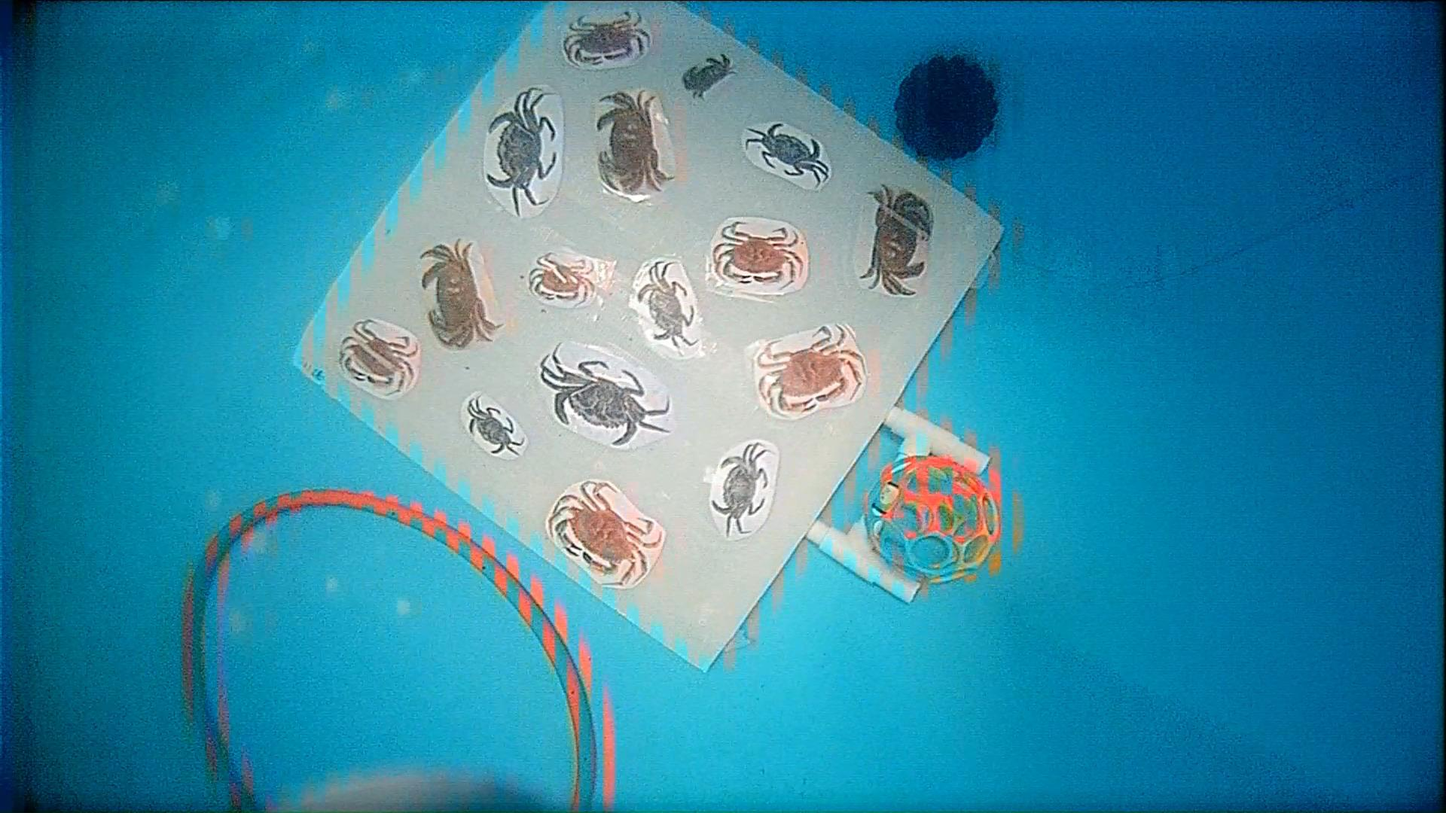GreenCrab: (540, 351, 670, 446), (486, 87, 557, 216), (709, 441, 767, 534), (745, 123, 828, 182), (466, 401, 523, 456)
